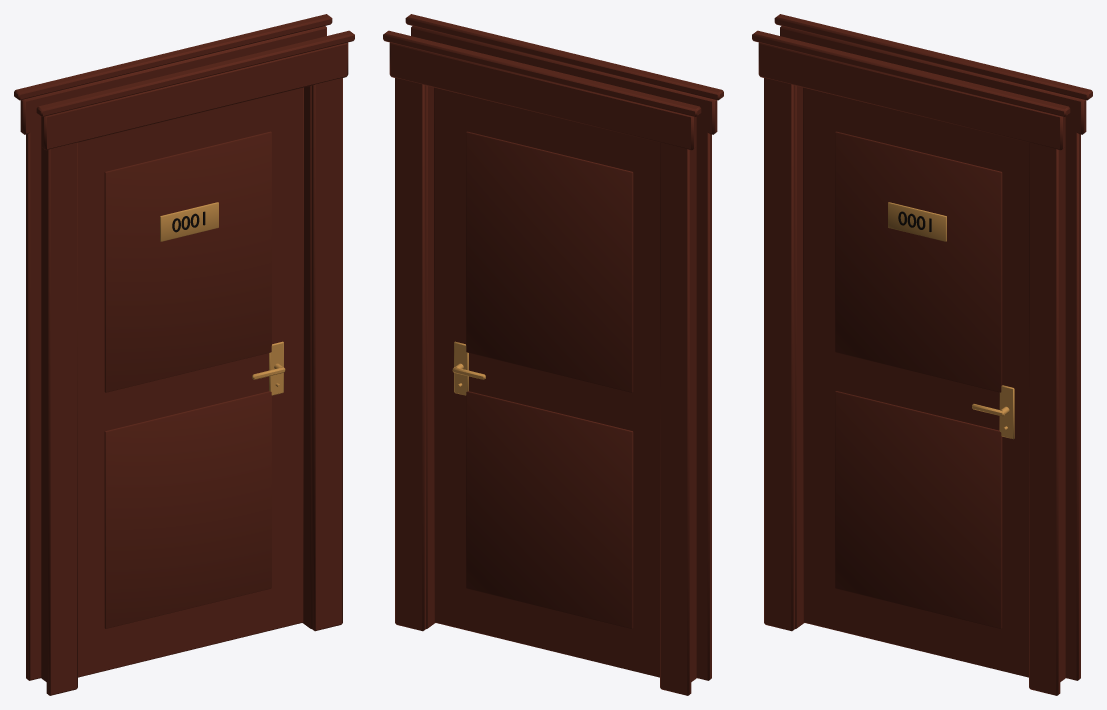
The model's file is Door.glb.
3 views of the same model, side by side, from view 1: azimuth 30°, elevation 25°; view 2: azimuth 150°, elevation 25°; view 3: azimuth 330°, elevation 25° (orthographic).
Parts seen in each view (by area): view 1: Door_Leaf, Door_Body, Door_Leaf_Plate, Door_Leaf_Handle; view 2: Door_Leaf, Door_Body, Door_Leaf_Handle; view 3: Door_Leaf, Door_Body, Door_Leaf_Plate, Door_Leaf_Handle.
Boxes of the visible parts, x1,y1,x2,y2 form: Door_Leaf: [78, 87, 303, 677]; Door_Body: [14, 14, 354, 695]; Door_Leaf_Plate: [160, 202, 218, 241]; Door_Leaf_Handle: [252, 341, 285, 395]; Door_Leaf: [434, 87, 659, 677]; Door_Body: [383, 14, 723, 695]; Door_Leaf_Handle: [452, 341, 485, 395]; Door_Leaf: [803, 87, 1028, 677]; Door_Body: [752, 14, 1092, 695]; Door_Leaf_Plate: [888, 202, 946, 241]; Door_Leaf_Handle: [972, 385, 1014, 439].
Bounding box in the file's own units: 1.28 × 2.3 × 0.2.
